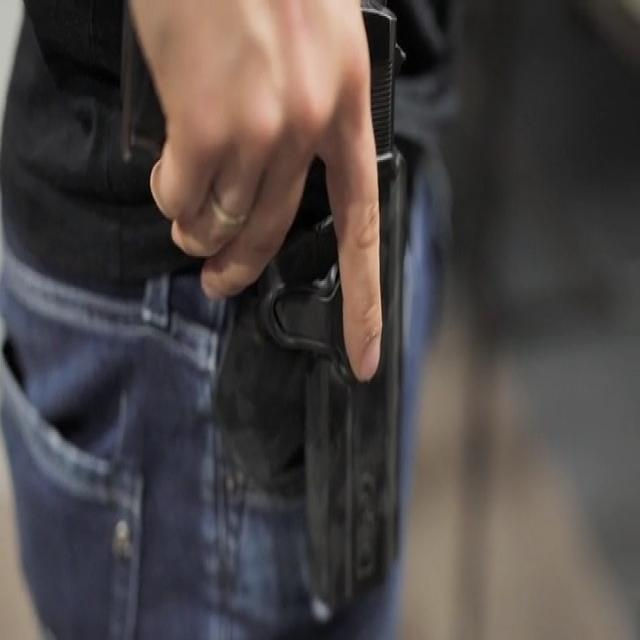Gun_Holder: (144, 0, 429, 640)
